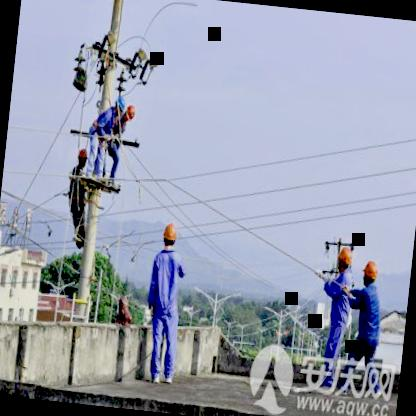helmet: (160, 217, 182, 254), (357, 256, 379, 290), (334, 244, 353, 278), (111, 92, 126, 123), (72, 145, 89, 171), (122, 101, 138, 126)
